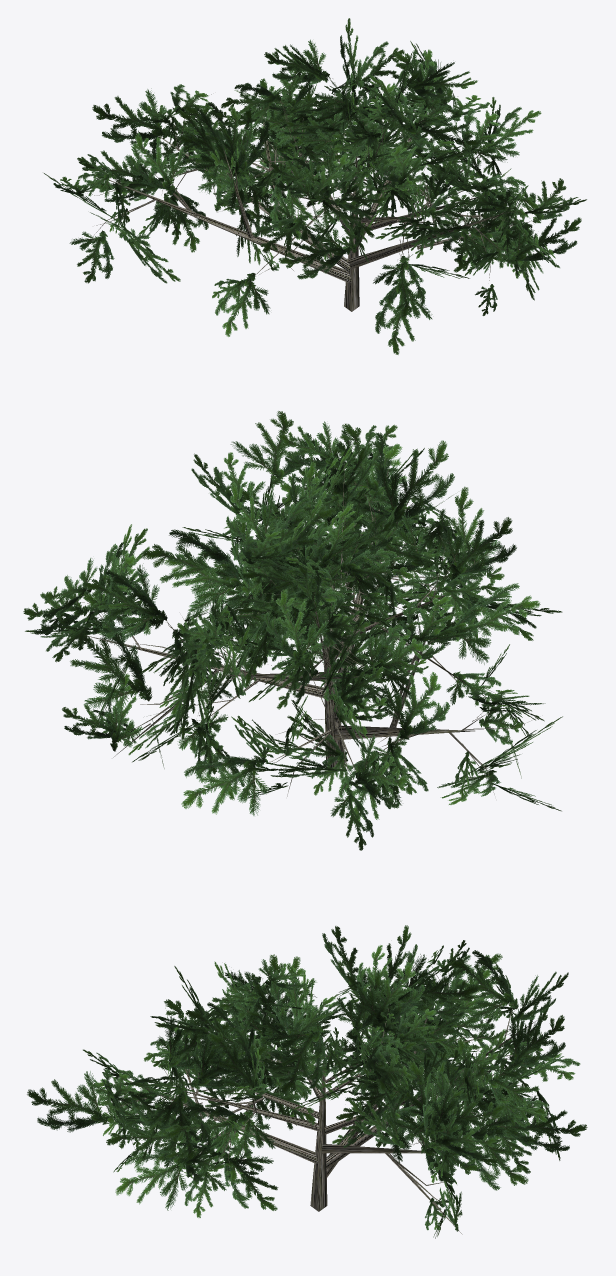
The model's file is tree_LOD2.glb.
3 renders of one model, top to bottom at view 1: azimuth 30°, elevation 25°; view 2: azimuth 150°, elevation 25°; view 3: azimuth 270°, elevation 25°, orthographic. The views are drawn at different scales.
Visible parts, largest first — view 1: Leaves_LOD2, Branches_LOD2; view 2: Leaves_LOD2, Branches_LOD2; view 3: Leaves_LOD2, Branches_LOD2.
Part boxes in pixels (left/top/right/bottom): Leaves_LOD2: left=44, top=18, right=586, bottom=354; Branches_LOD2: left=92, top=78, right=532, bottom=311; Leaves_LOD2: left=23, top=411, right=562, bottom=850; Branches_LOD2: left=82, top=444, right=531, bottom=797; Leaves_LOD2: left=27, top=925, right=587, bottom=1238; Branches_LOD2: left=106, top=953, right=537, bottom=1234.
Bounding box in the file's own units: 33.47 × 19.57 × 34.91.
Materials: 2 (2 with a texture image).
